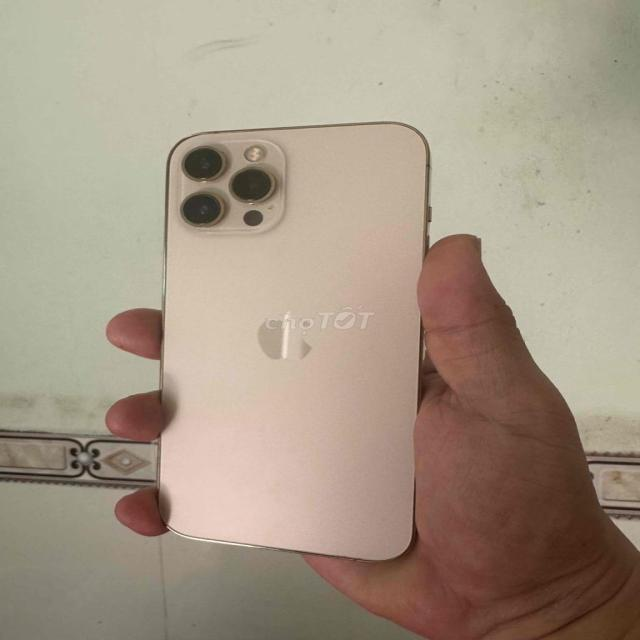gen_12_13: (153, 118, 440, 566)
